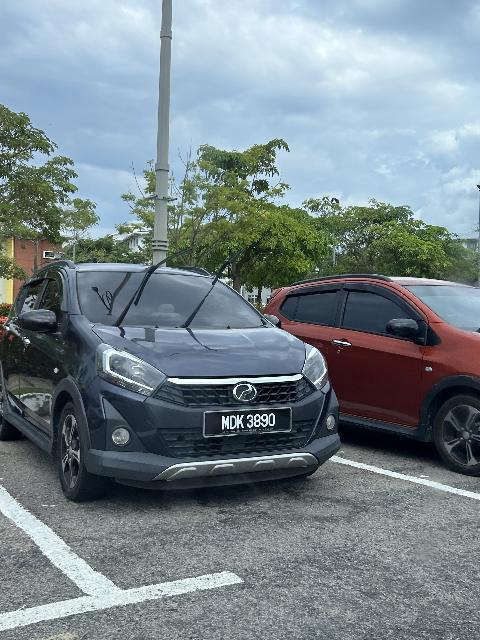License_Plate: (202, 410, 296, 443)
MDK3890: (202, 410, 296, 443)
car: (3, 259, 348, 507), (266, 271, 480, 472)
